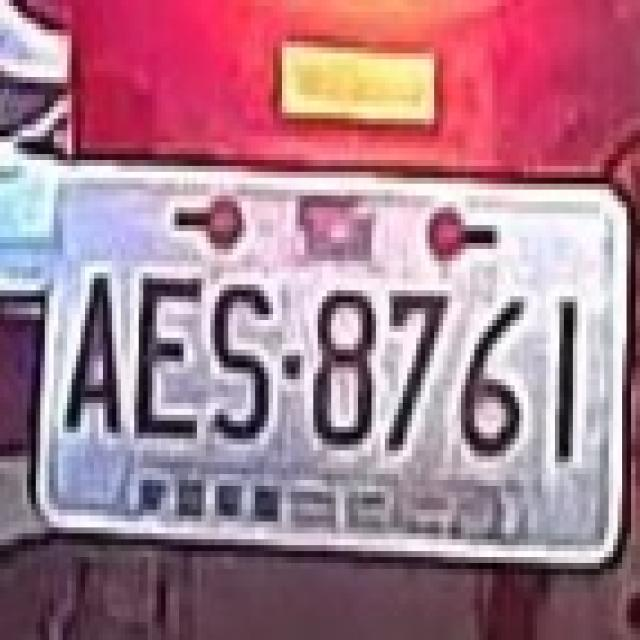license-plate: (35, 155, 632, 562)
